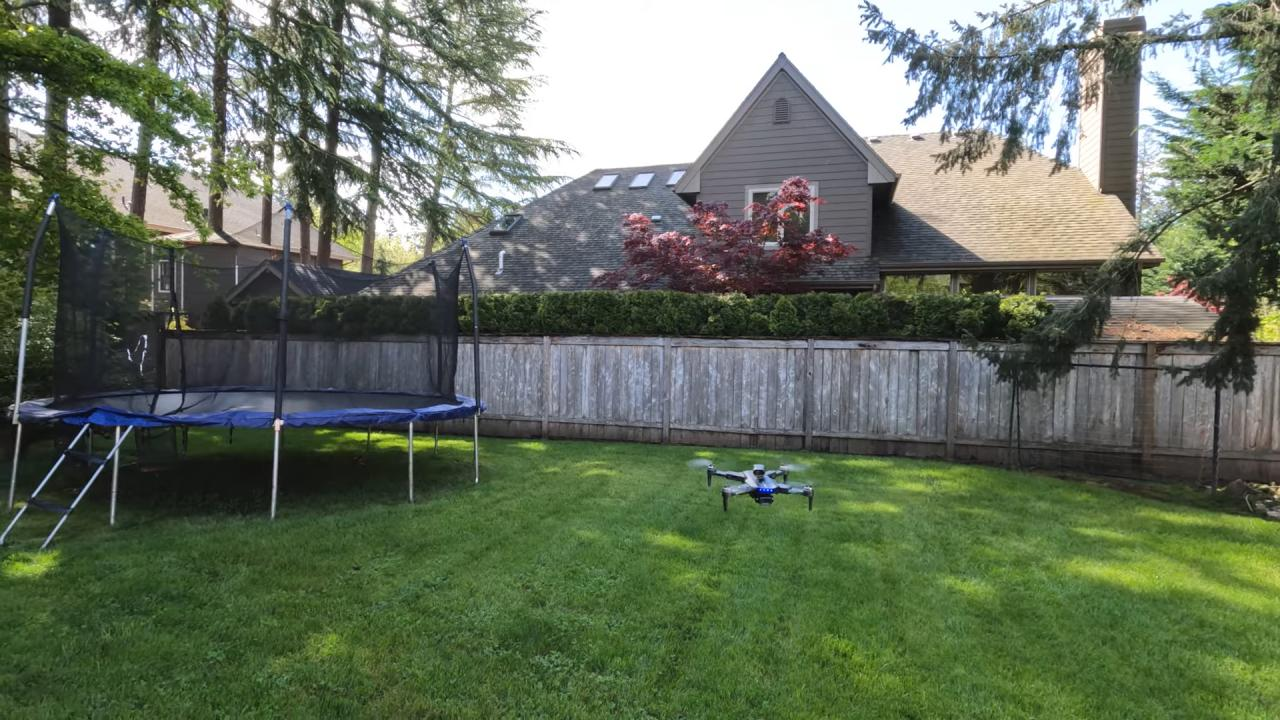Drone: (676, 450, 836, 522)
